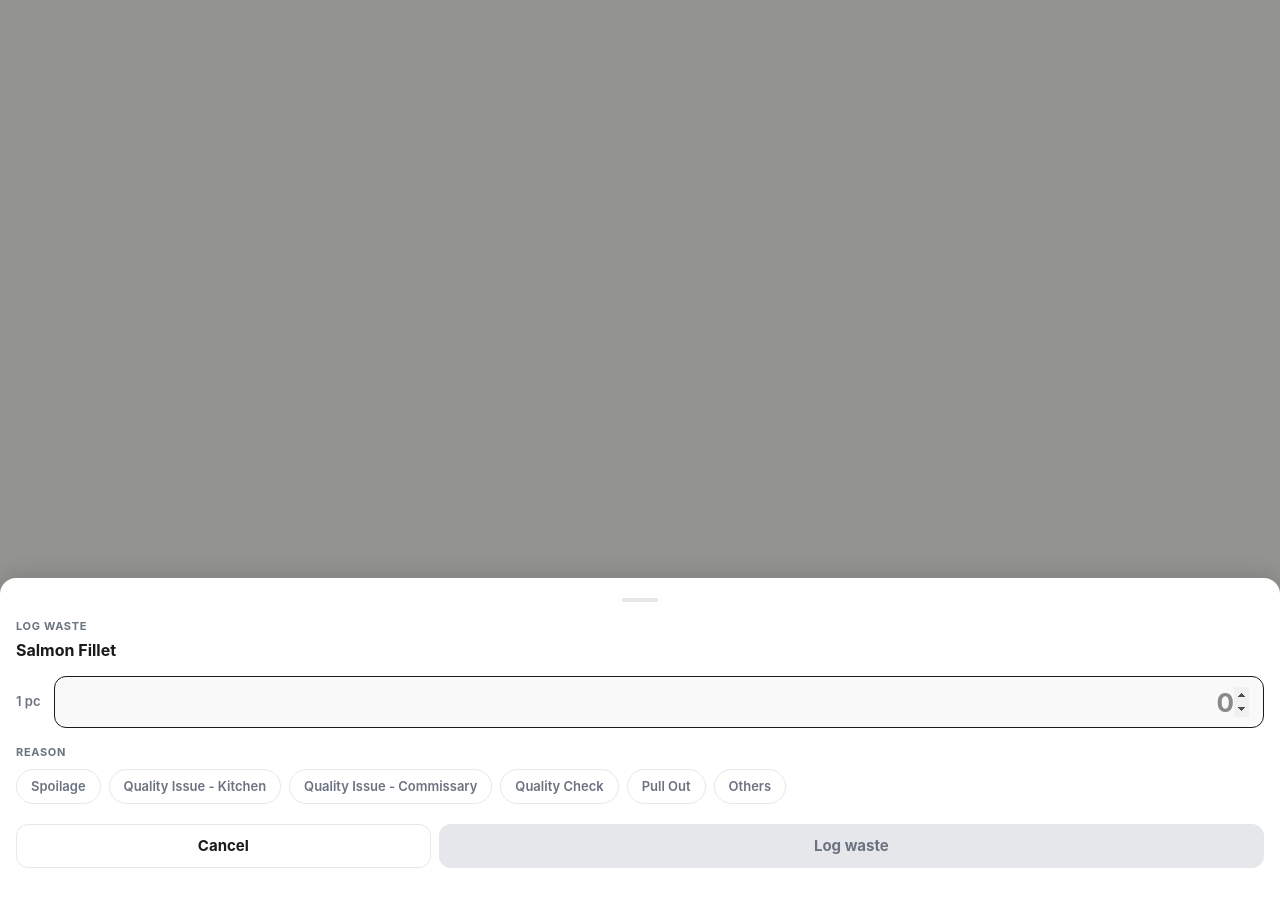
WasteEntrySheet › confirm button is enabled when both qty and reason are selected
In the number field: (659, 702) [54, 676, 1264, 728], type "2"
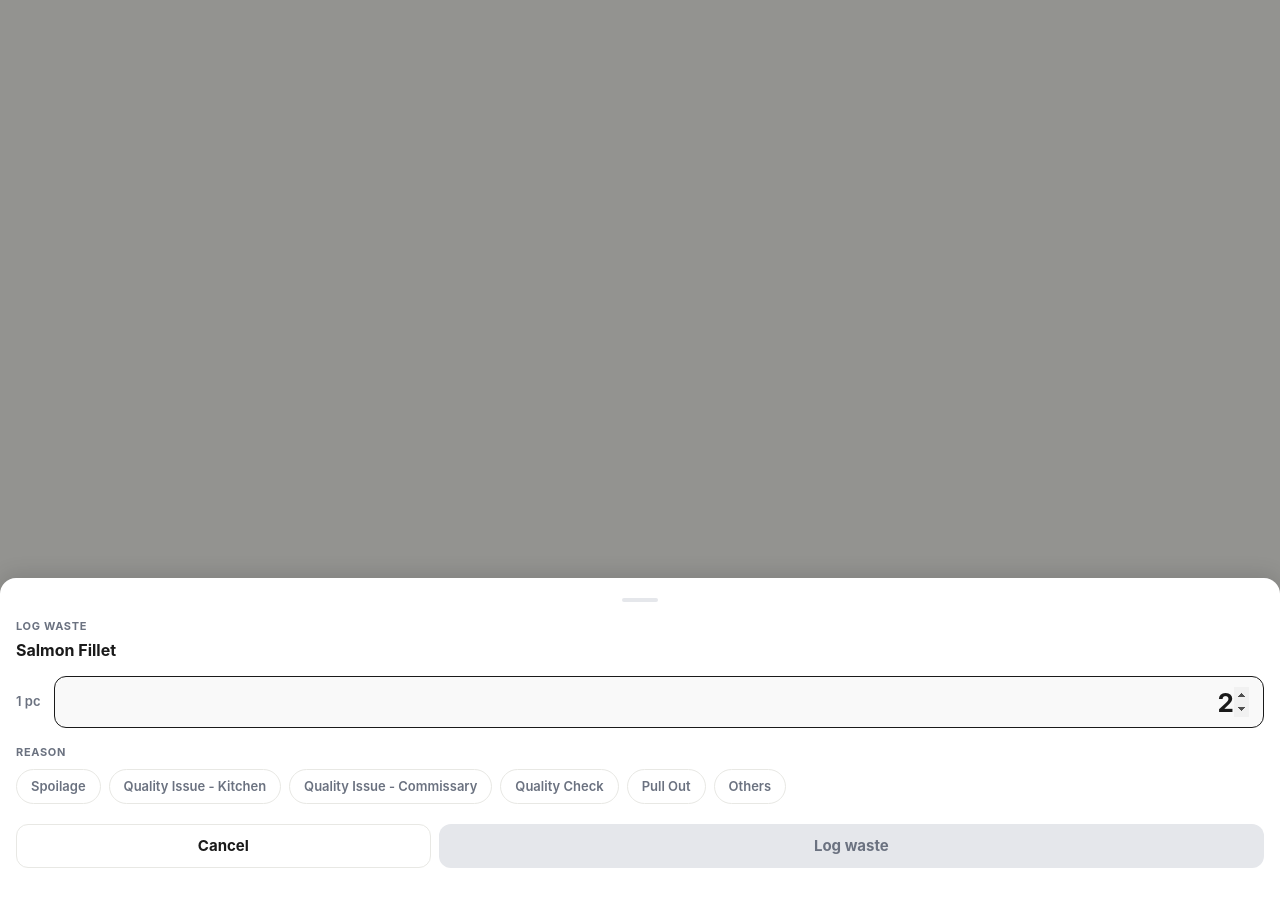
Click the button "Spoilage": (58, 786) [16, 768, 101, 804]
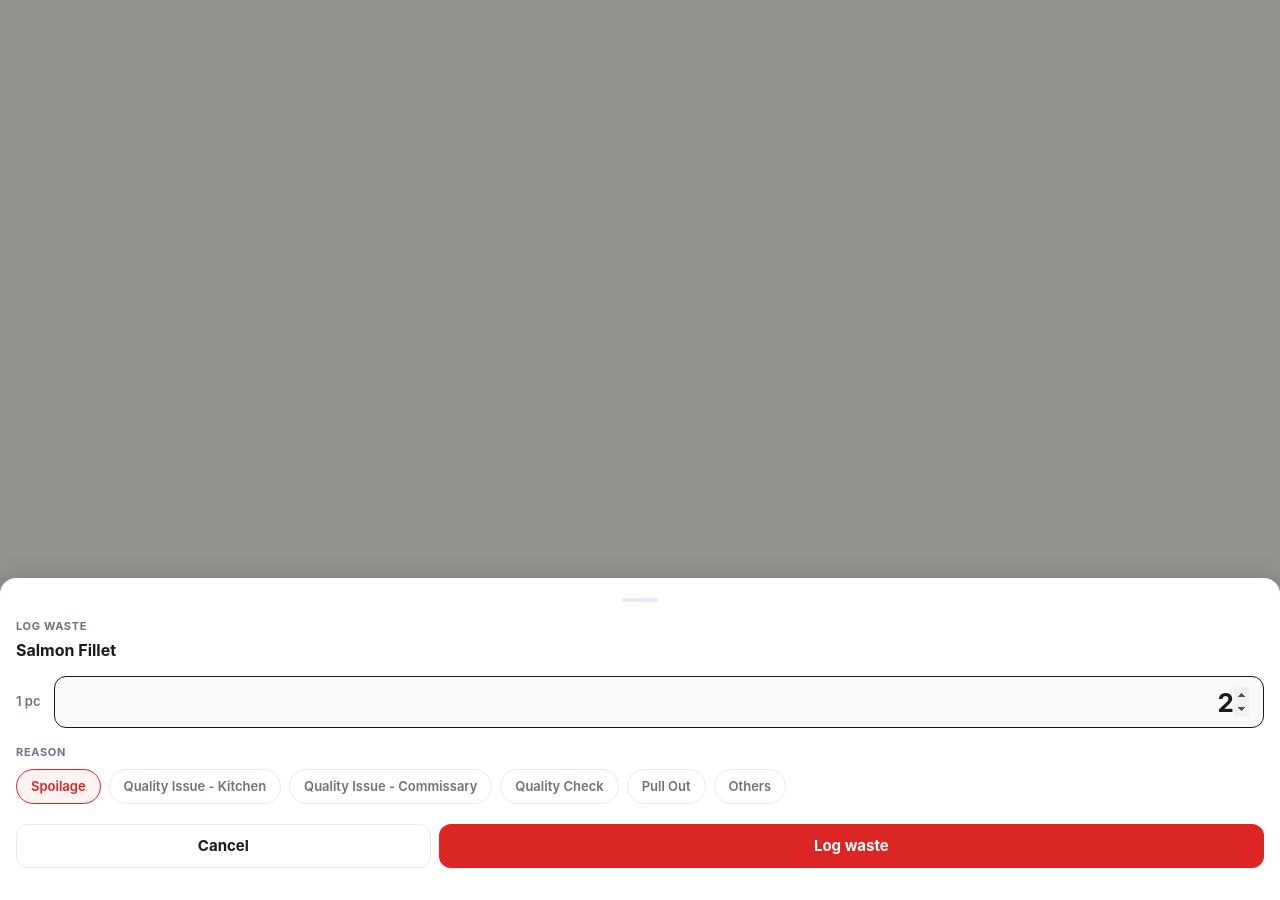
Expected: the button "Log waste" is enabled, [439, 824, 1264, 868]
